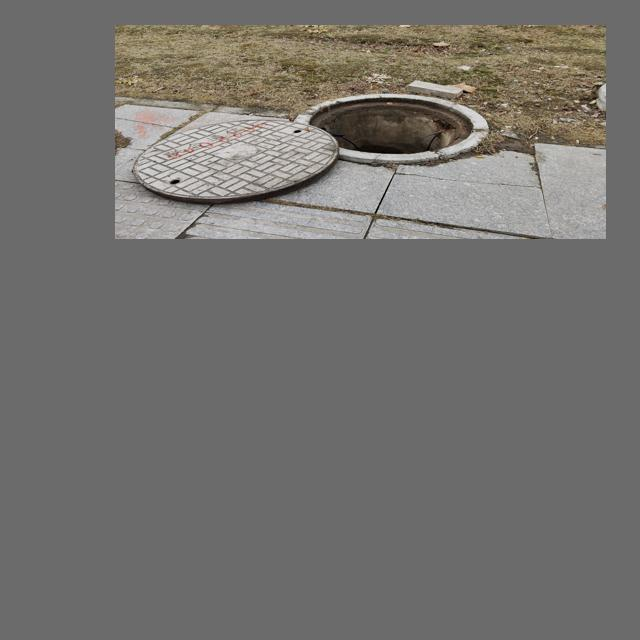uncovered: (132, 93, 489, 203)
